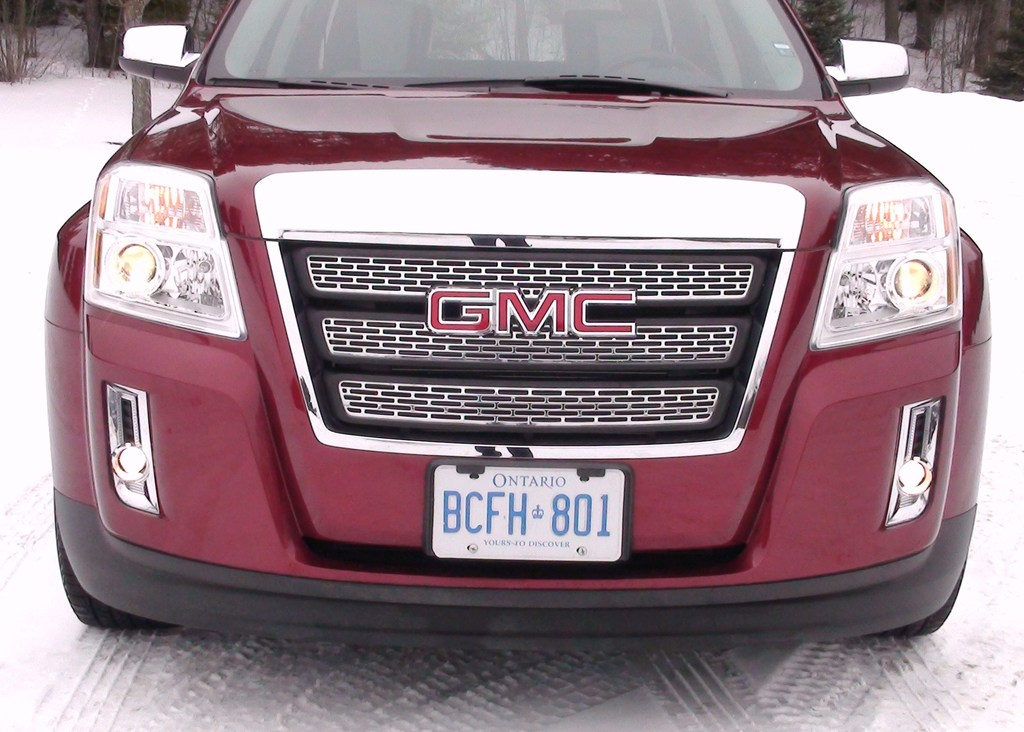Tree: (0, 0, 1023, 95)
